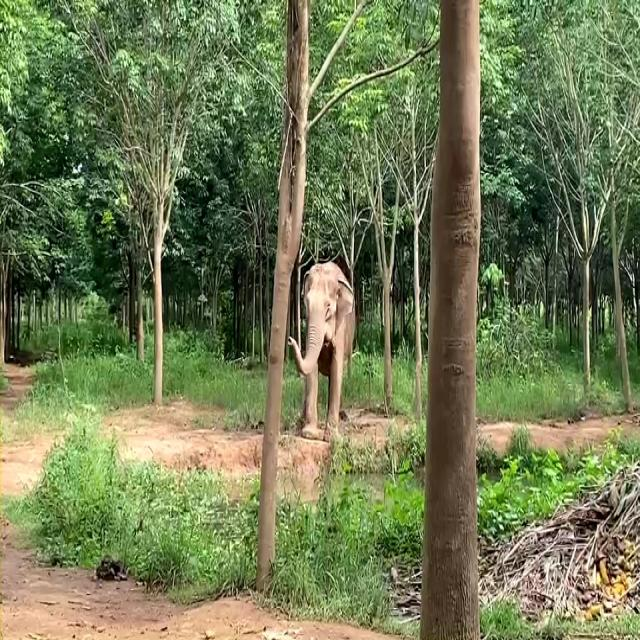Elephant: (290, 260, 356, 444)
